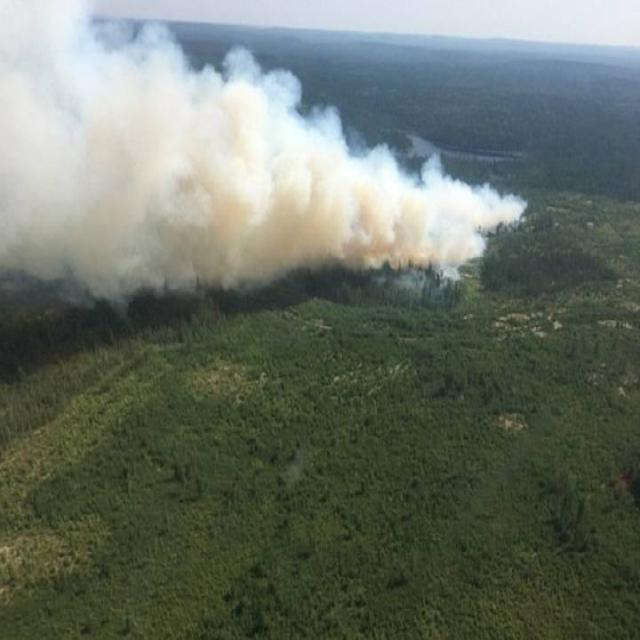Smoke: (49, 58, 458, 275)
